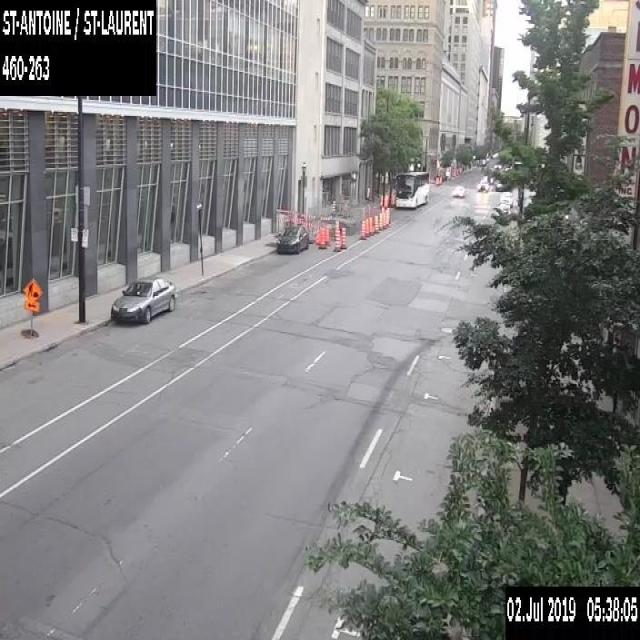bus: (395, 170, 429, 208)
construction: (20, 276, 42, 338), (276, 208, 312, 243), (322, 224, 330, 246), (318, 227, 326, 248), (333, 228, 340, 251), (340, 226, 346, 248), (359, 220, 366, 238), (364, 217, 370, 236), (368, 216, 373, 234), (386, 206, 391, 223), (378, 212, 383, 229), (382, 210, 386, 228), (374, 214, 378, 232), (385, 208, 389, 225), (334, 219, 339, 230), (435, 175, 441, 183), (456, 167, 458, 175), (453, 169, 455, 176), (459, 166, 460, 173)
vehicle: (108, 274, 176, 325), (275, 221, 308, 253), (499, 190, 513, 206), (496, 202, 511, 214), (451, 184, 464, 196), (478, 178, 489, 191), (493, 158, 502, 168), (495, 181, 504, 190)
